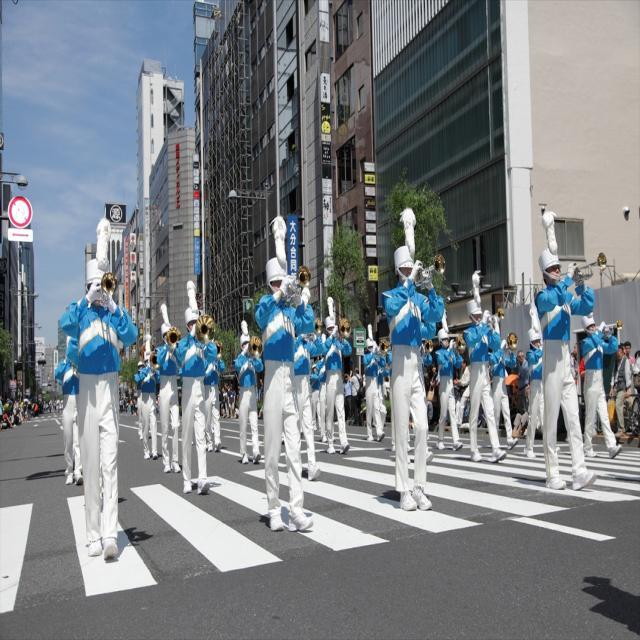body: (57, 213, 143, 566), (384, 335, 640, 435), (532, 209, 608, 494), (252, 211, 316, 533), (379, 205, 445, 511), (174, 278, 220, 498), (462, 268, 508, 464), (118, 374, 264, 420), (580, 310, 624, 460), (523, 305, 561, 459), (321, 294, 354, 455), (154, 303, 182, 473), (232, 318, 264, 465), (294, 329, 324, 482), (436, 307, 467, 451), (54, 351, 82, 487), (487, 338, 519, 452), (0, 392, 65, 440), (138, 332, 162, 460), (203, 337, 226, 455), (362, 336, 385, 443), (609, 343, 631, 438), (318, 332, 336, 444), (453, 357, 471, 430), (347, 363, 364, 427), (133, 359, 146, 442), (308, 360, 322, 432), (515, 349, 530, 415), (342, 372, 353, 423), (429, 362, 441, 390), (623, 340, 635, 364)
